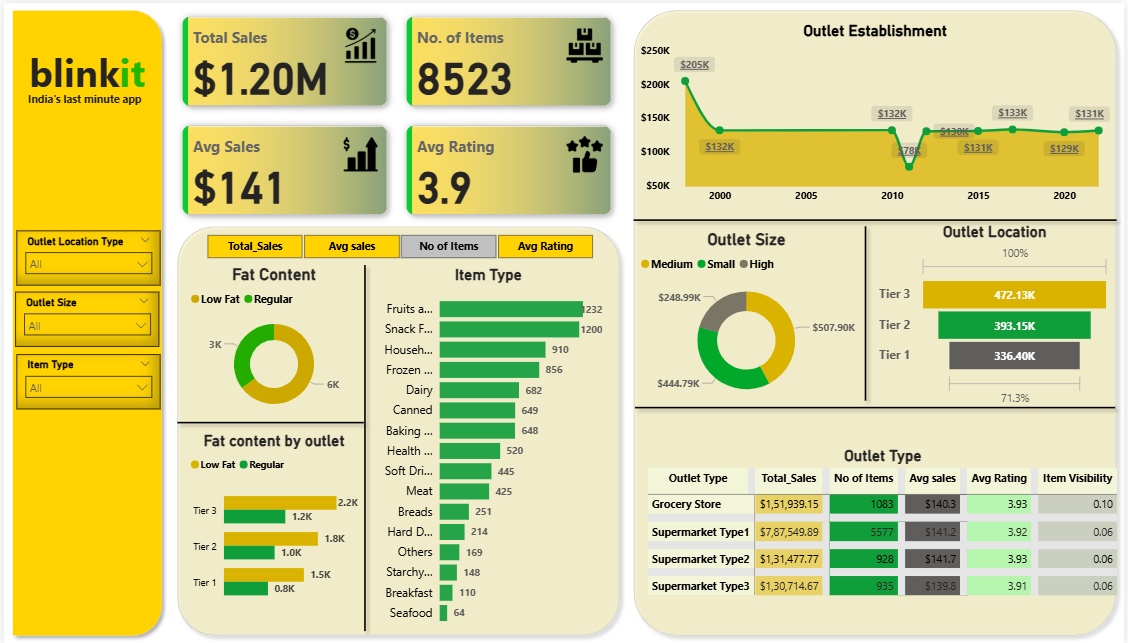

The dashboard page shown, as its layout file describes it:
{"tool":"powerbi","page":{"name":"Page 1","canvas":[1400,800],"ordinal":0},"visuals":[{"type":"shape","box":[1.5,0,204.6,800],"z":0},{"type":"textbox","box":[14.8,49.2,180.3,75.4],"z":1000},{"type":"textbox","box":[24.6,106.6,160.7,36.1],"z":2000},{"type":"cardVisual","fields":{"Data":["BlinkIT Grocery Data.Total_Sales","BlinkIT Grocery Data.No of Items","BlinkIT Grocery Data.Avg sales","BlinkIT Grocery Data.Avg Rating"]},"box":[206.2,0,570.8,283.1],"z":3000},{"type":"shape","box":[207.7,270.8,570.8,529.2],"z":4000},{"type":"donutChart","title":"Fat Content","fields":{"Y":["BlinkIT Grocery Data.No of Items"],"Category":["BlinkIT Grocery Data.Item Fat Content"]},"box":[228.1,327.2,219.1,196.6],"z":5000},{"type":"slicer","fields":{"Values":["Metrics.Metrics"]},"box":[227.7,283.1,532.3,43.1],"z":6000},{"type":"clusteredBarChart","title":"Fat content by outlet","fields":{"Y":["BlinkIT Grocery Data.No of Items"],"Category":["BlinkIT Grocery Data.Outlet Location Type"],"Series":["BlinkIT Grocery Data.Item Fat Content"]},"box":[228.1,535.8,219.1,229.6],"z":7000},{"type":"shape","box":[207.7,493.8,250.8,61.5],"z":8000},{"type":"shape","box":[441.5,318.5,16.9,475.4],"z":9000},{"type":"barChart","title":"Item Type","fields":{"Y":["BlinkIT Grocery Data.No of Items"],"Category":["BlinkIT Grocery Data.Item Type"]},"box":[458.5,327.7,295.4,460],"z":10000},{"type":"shape","box":[778.5,0,621.5,800],"z":11000},{"type":"lineChart","title":"Outlet Establishment","fields":{"Y":["BlinkIT Grocery Data.Total_Sales"],"Category":["BlinkIT Grocery Data.Outlet Establishment Year"]},"box":[790.8,23.1,596.9,235.4],"z":12000},{"type":"shape","box":[778.5,240,621.5,61.5],"z":13000},{"type":"donutChart","title":"Outlet Size","fields":{"Y":["BlinkIT Grocery Data.Total_Sales"],"Category":["BlinkIT Grocery Data.Outlet Size"]},"box":[790.8,283.1,275,225],"z":14000},{"type":"shape","box":[1065.6,270.2,22.5,235.6],"z":15000},{"type":"funnel","title":"Outlet Location","fields":{"Category":["BlinkIT Grocery Data.Outlet Location Type"],"Y":["Sum(BlinkIT Grocery Data.Sales)"]},"box":[1089.6,274.7,298.7,234.1],"z":16000},{"type":"shape","box":[778.9,474.3,618.4,61.5],"z":17000},{"type":"pivotTable","title":"Outlet Type","fields":{"Rows":["BlinkIT Grocery Data.Outlet Type"],"Values":["BlinkIT Grocery Data.Total_Sales","BlinkIT Grocery Data.No of Items","BlinkIT Grocery Data.Avg sales","BlinkIT Grocery Data.Avg Rating","Avg(BlinkIT Grocery Data.Item Visibility)"]},"box":[800,555.3,597.3,199.6],"z":18000},{"type":"slicer","fields":{"Values":["BlinkIT Grocery Data.Outlet Location Type"]},"box":[15,283.7,180.1,69],"z":19000},{"type":"slicer","fields":{"Values":["BlinkIT Grocery Data.Outlet Size"]},"box":[13.5,361.7,180.1,69],"z":19001},{"type":"slicer","fields":{"Values":["BlinkIT Grocery Data.Item Type"]},"box":[15,439.8,180.1,69],"z":19002}]}

Visuals, with their boxes in screenshot pixels (x1, y1, x2, y2), scaled from the page's 1400x800 canvas onto the 1128x643 screenshot:
shape: left=1, top=0, right=166, bottom=642
textbox: left=12, top=40, right=157, bottom=100
textbox: left=20, top=86, right=149, bottom=115
cardVisual - BlinkIT Grocery Data.Total_Sales x BlinkIT Grocery Data.No of Items: left=166, top=0, right=626, bottom=228
shape: left=167, top=218, right=627, bottom=642
"Fat Content" donutChart: left=184, top=263, right=360, bottom=421
slicer - Metrics.Metrics: left=183, top=228, right=612, bottom=262
"Fat content by outlet" clusteredBarChart: left=184, top=431, right=360, bottom=615
shape: left=167, top=397, right=369, bottom=446
shape: left=356, top=256, right=369, bottom=638
"Item Type" barChart: left=369, top=263, right=607, bottom=633
shape: left=627, top=0, right=1127, bottom=642
"Outlet Establishment" lineChart: left=637, top=19, right=1118, bottom=208
shape: left=627, top=193, right=1127, bottom=242
"Outlet Size" donutChart: left=637, top=228, right=859, bottom=408
shape: left=859, top=217, right=877, bottom=407
"Outlet Location" funnel: left=878, top=221, right=1119, bottom=409
shape: left=628, top=381, right=1126, bottom=431
"Outlet Type" pivotTable: left=645, top=446, right=1126, bottom=607
slicer - BlinkIT Grocery Data.Outlet Location Type: left=12, top=228, right=157, bottom=283
slicer - BlinkIT Grocery Data.Outlet Size: left=11, top=291, right=156, bottom=346
slicer - BlinkIT Grocery Data.Item Type: left=12, top=353, right=157, bottom=409
